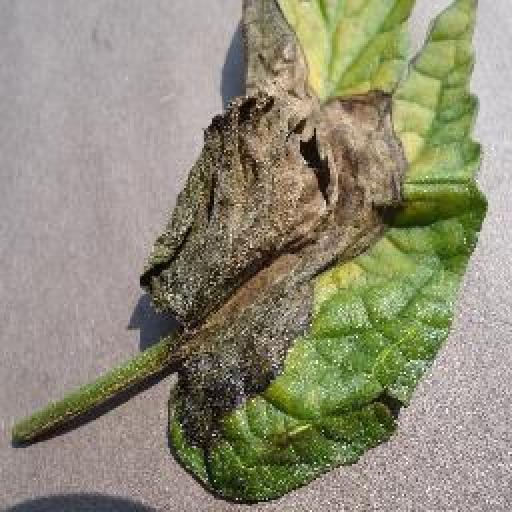Late Blight: (136, 0, 488, 502)
